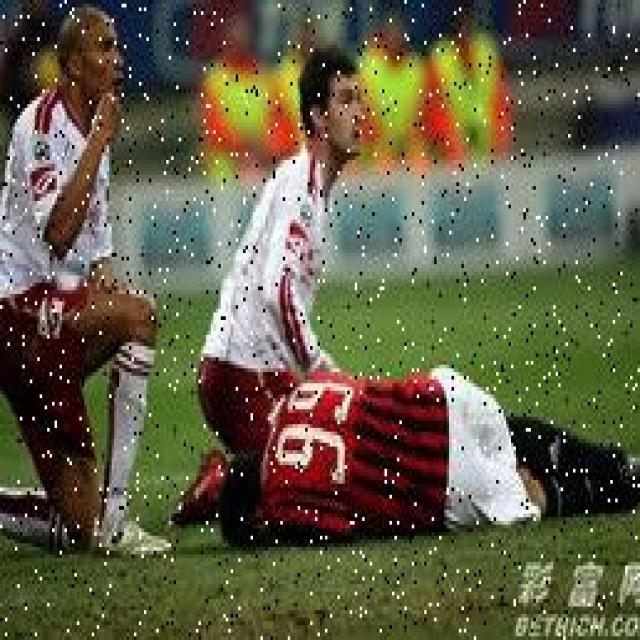fall: (216, 364, 637, 536)
